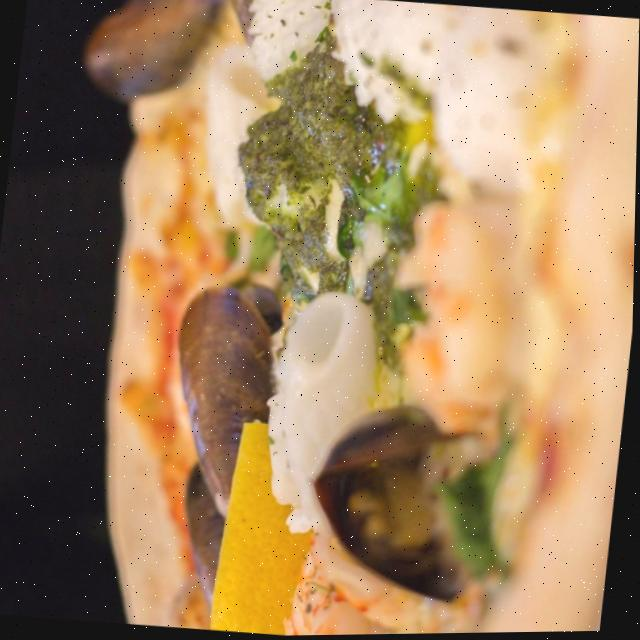basil: (431, 405, 533, 597), (329, 151, 416, 267), (382, 277, 435, 344), (241, 224, 285, 282), (218, 221, 246, 271)
pizza: (27, 0, 640, 640)
